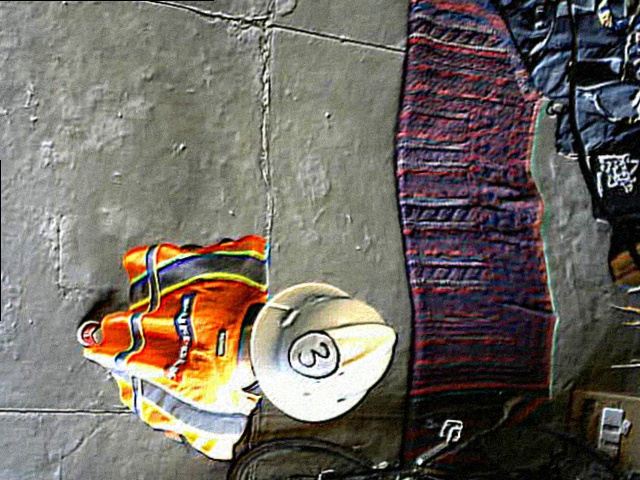three: (288, 330, 342, 381)
